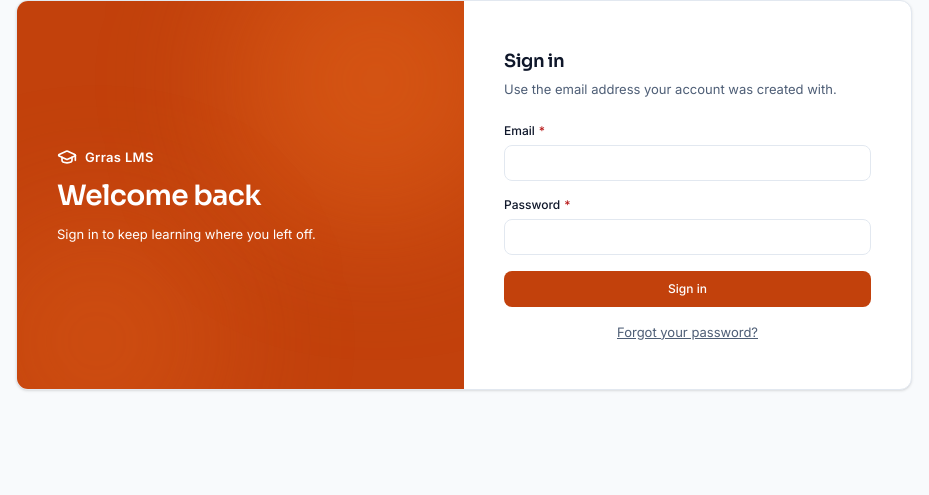
LoginPage › shows the generic sign-in failure without ever mentioning MFA
The image size is (929, 495).
Step 1. Type "a@b.test" into the field labelled "Email" → coordinates (688, 163), box x1=504 y1=145 x2=871 y2=181
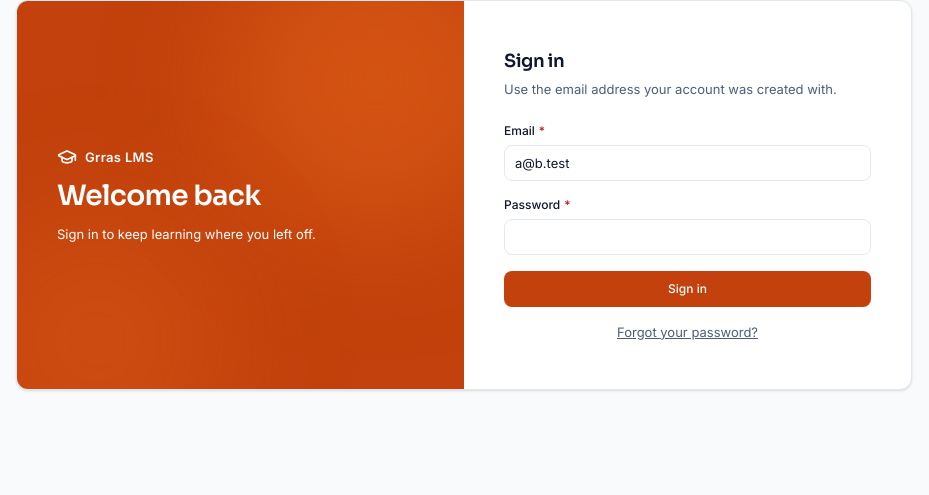
Step 2. Type "correct-password" into the password field labelled "Password" → coordinates (688, 237), box x1=504 y1=219 x2=871 y2=255
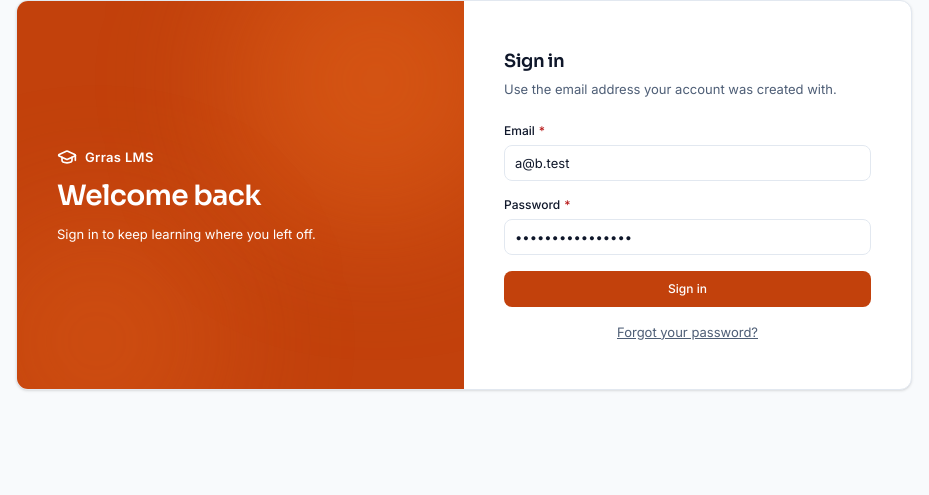
Step 3. Click the button "Sign in" → coordinates (688, 289), box x1=504 y1=271 x2=871 y2=307
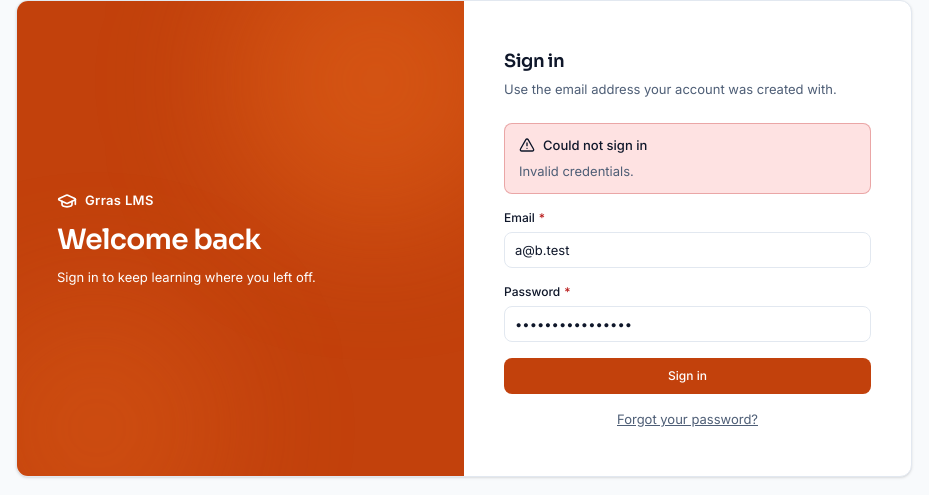
Expected: the text "Invalid credentials." is shown, x1=519 y1=163 x2=634 y2=179
